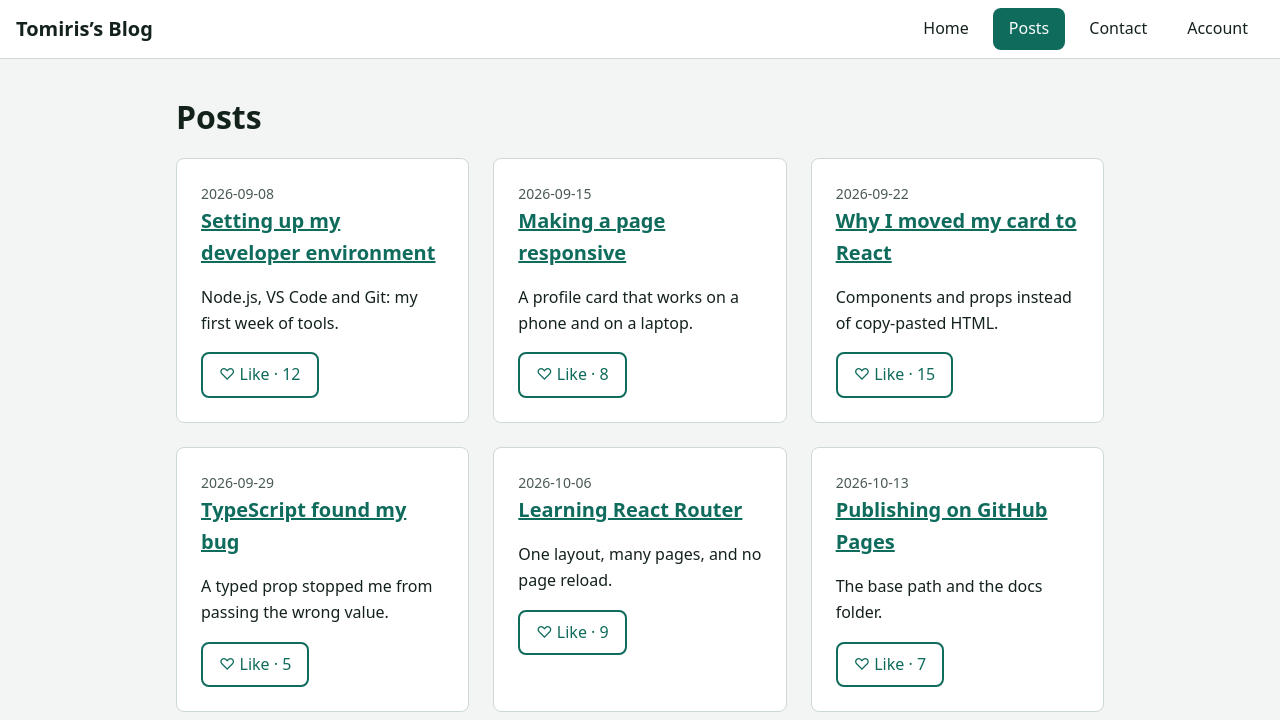
Test: blog › like button changes only its own post
This screenshot has width=1280, height=720.
What coordinates should you click on to do the following:
click the button "♡ Like · 12"
I would click on:
 (260, 375)
Its box is [201,352,318,398].
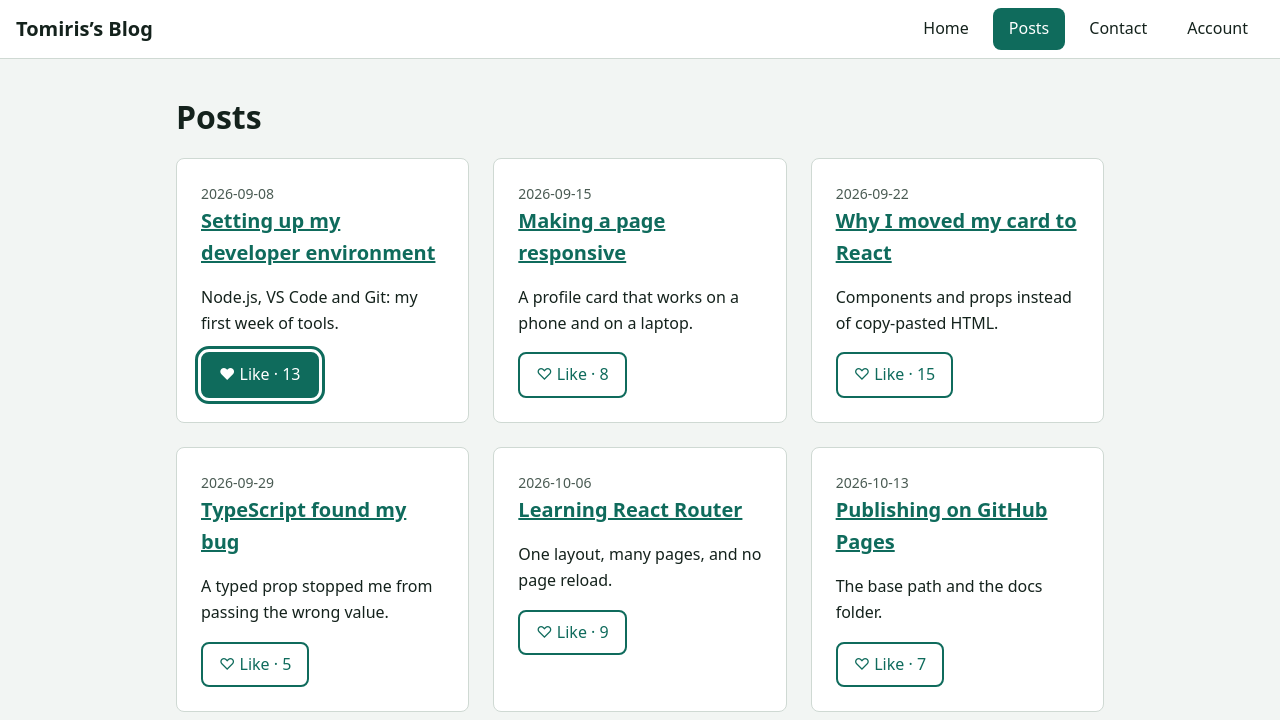
Expected: the button "♥ Like · 13" is shown, [201,352,318,398]
